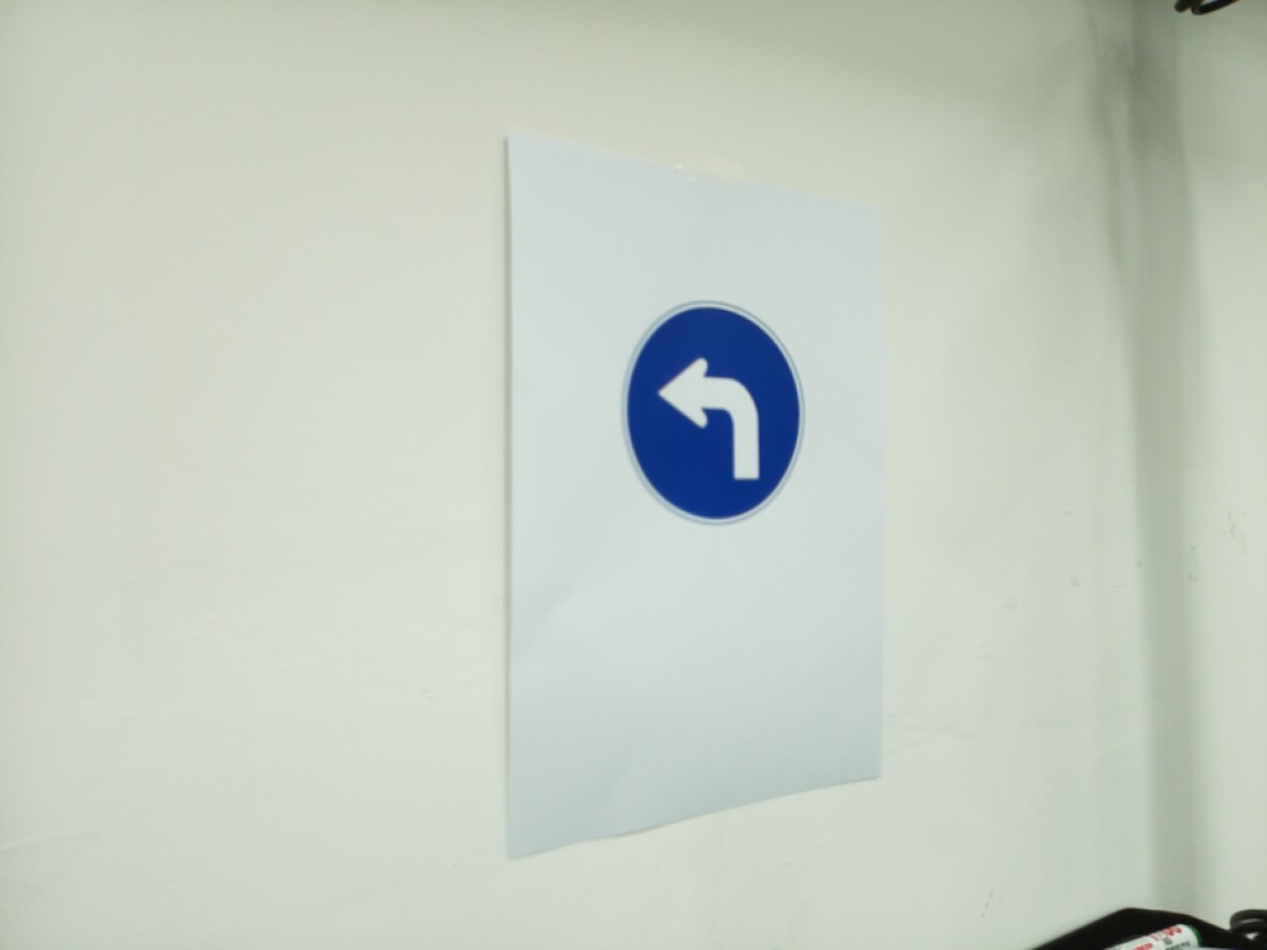left_turn: (620, 299, 807, 527)
